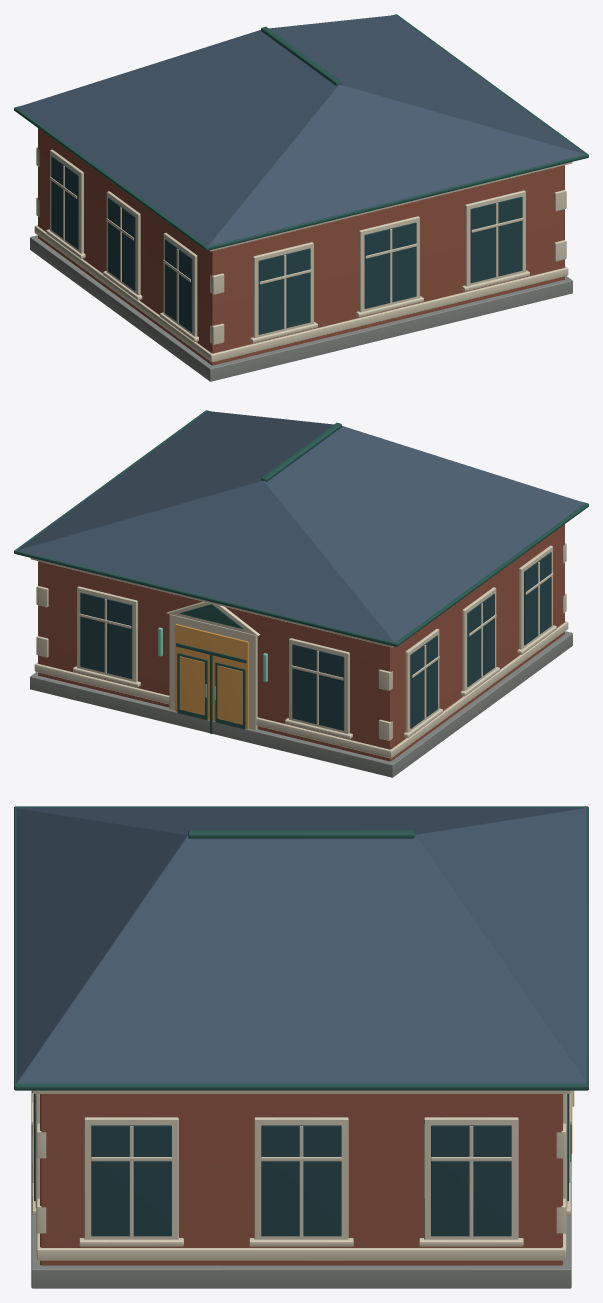
The model's file is d01_academic_buildings_03.glb.
3 views of the same model, one above another, from view 1: azimuth 30°, elevation 25°; view 2: azimuth 150°, elevation 25°; view 3: azimuth 270°, elevation 25° (orthographic). The views are drawn at different scales.
Parts seen in each view (by area): view 1: D01AcademicBuildings03_Mesh; view 2: D01AcademicBuildings03_Mesh; view 3: D01AcademicBuildings03_Mesh.
Boxes of the visible parts, x1,y1,x2,y2 form: D01AcademicBuildings03_Mesh: [14, 14, 588, 381]; D01AcademicBuildings03_Mesh: [14, 410, 588, 777]; D01AcademicBuildings03_Mesh: [14, 806, 588, 1288].
Size of the model in its own units: 15.2 by 8.23 by 13.2.
